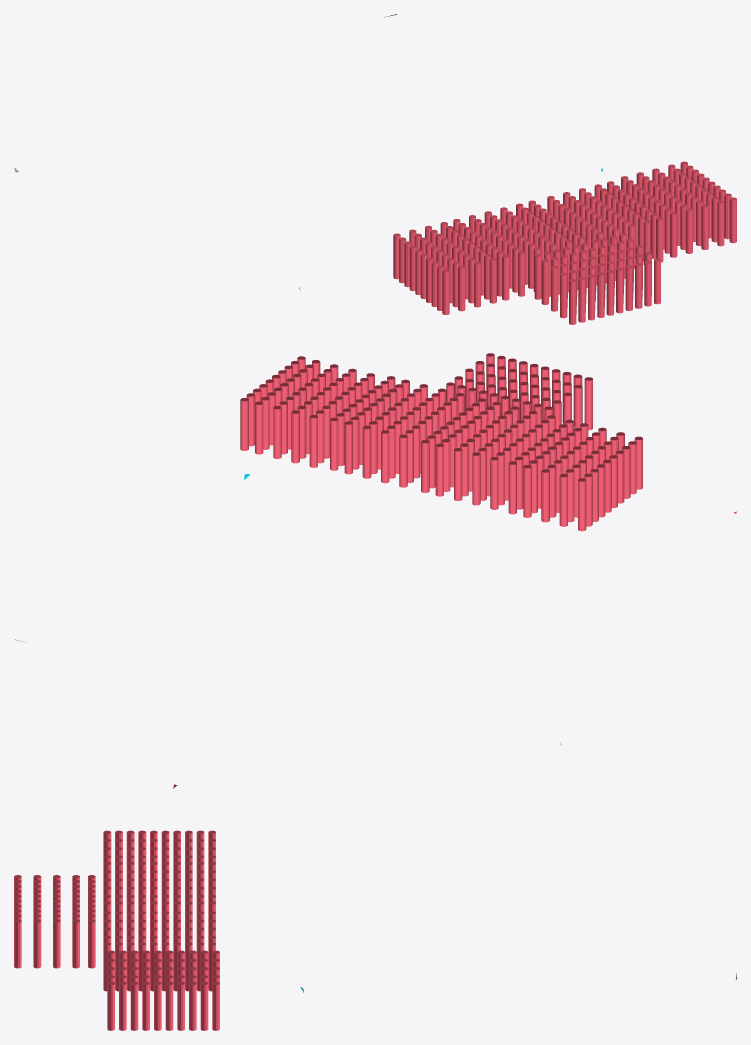
File: atomos.glb
The picture shows the model from 3 angles, top to bottom: view 1: azimuth 30°, elevation 25°; view 2: azimuth 150°, elevation 25°; view 3: azimuth 270°, elevation 25°; orthographic projection. The views are drawn at different scales.
Visible parts, largest first — view 1: Node1; view 2: Node1; view 3: Node1.
Part boxes in pixels (x1,y1,x2,y2): Node1: (14,14,736,324); Node1: (15,353,736,745); Node1: (14,777,736,1030).
Size of what is drawn, in the model's own units: 151 by 13 by 186.
